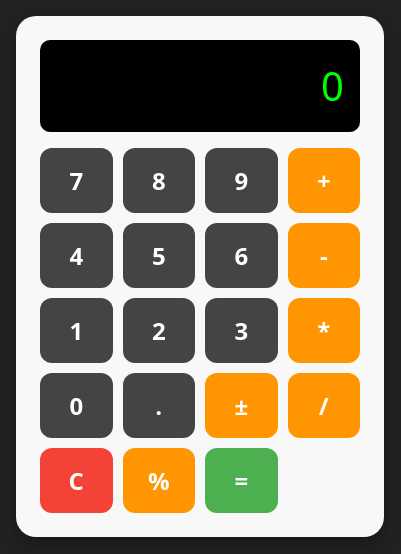
Test case: Calculator › handles decimal input
Click the button "3": (241, 330) [205,298,278,362]
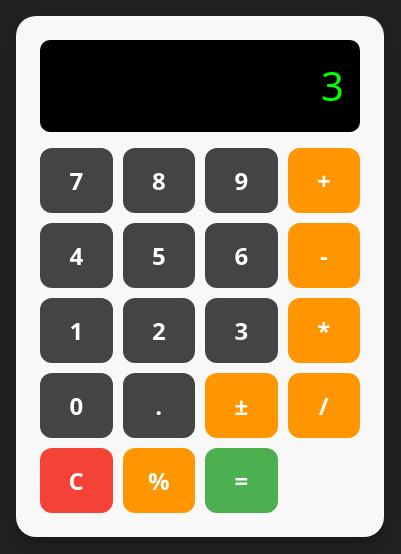
Click the button ".": (159, 405) [122,372,195,438]
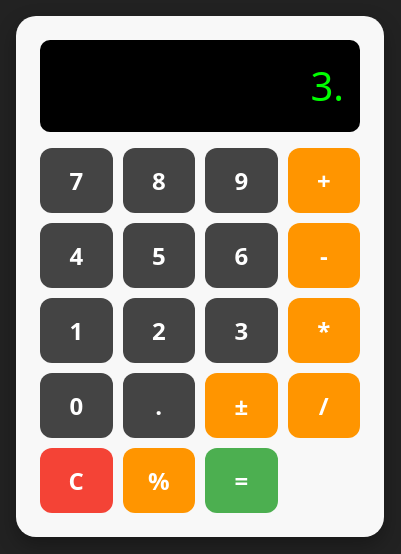
Click the button "1": (76, 330) [40,298,112,362]
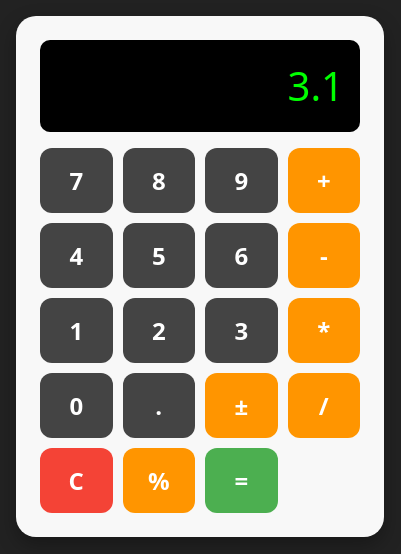
expect the heading reads "3.1": met, box [288,58,344,112]
